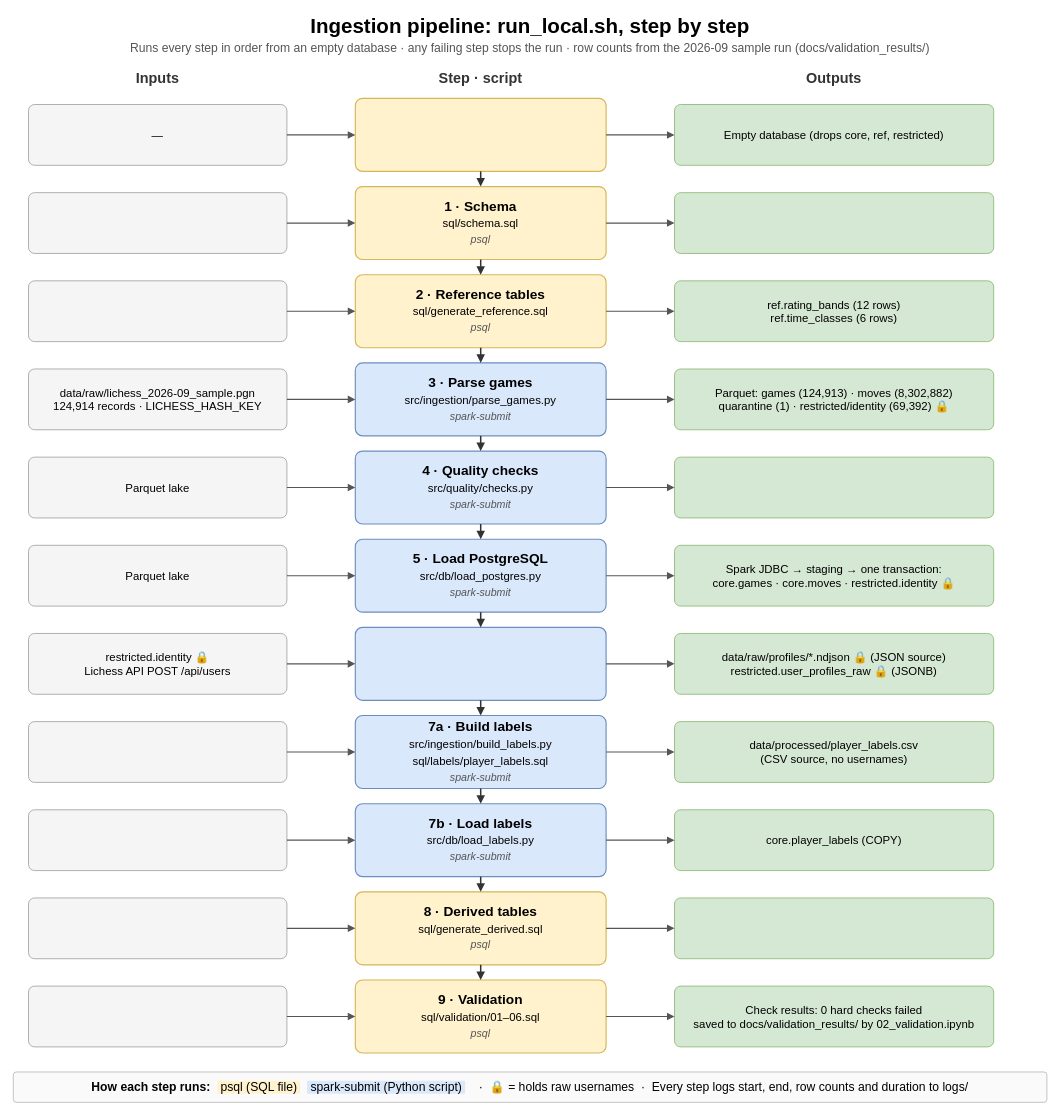
Image size: 1060x1116. Some labels were removed from this diagram. Each missing label, with the centre of its shape:
0 · Reset database sql/drop_schemas.sql psql: point (480, 135)
6 · Collect labels src/ingestion/collect_labels.py spark-submit: point (480, 663)
All tables: point (157, 1016)
core.games · core.moves · ref.rating_bands: point (157, 928)
core.players (69,392) core.baselines (55 band × time-class cells): point (834, 928)
Data dictionary §4–5: point (157, 222)
docs/validation_results/dq_parquet.json hard failure → exit code 1, run stops: point (834, 487)
player_labels.csv: point (157, 840)
restricted.identity + user_profiles_raw 🔒: point (157, 751)
Schemas core, ref, restricted 9 tables with PK, FK, CHECK constraints: point (834, 222)
— (rows generated in SQL): point (157, 311)
